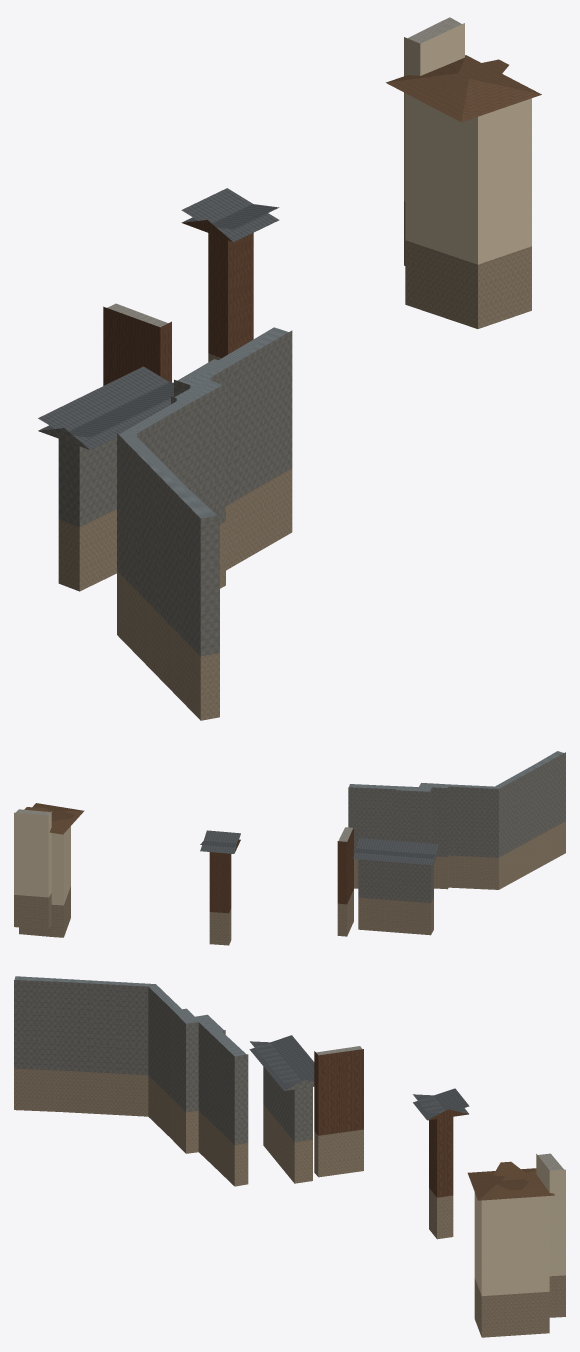
The model's file is bld_c0_-1_538.gltf.
3 views of the same model, one above another, from view 1: azimuth 30°, elevation 25°; view 2: azimuth 150°, elevation 25°; view 3: azimuth 270°, elevation 25° (orthographic). The views are drawn at different scales.
Parts seen in each view (by area): view 1: bld_c0_-1_538; view 2: bld_c0_-1_538; view 3: bld_c0_-1_538.
Boxes of the visible parts, x1,y1,x2,y2 form: bld_c0_-1_538: (38, 17, 541, 720); bld_c0_-1_538: (14, 751, 565, 945); bld_c0_-1_538: (14, 976, 565, 1337).
Bounding box in the file's own units: 57.97 × 20.38 × 61.42.
11 materials, 11 textured.
